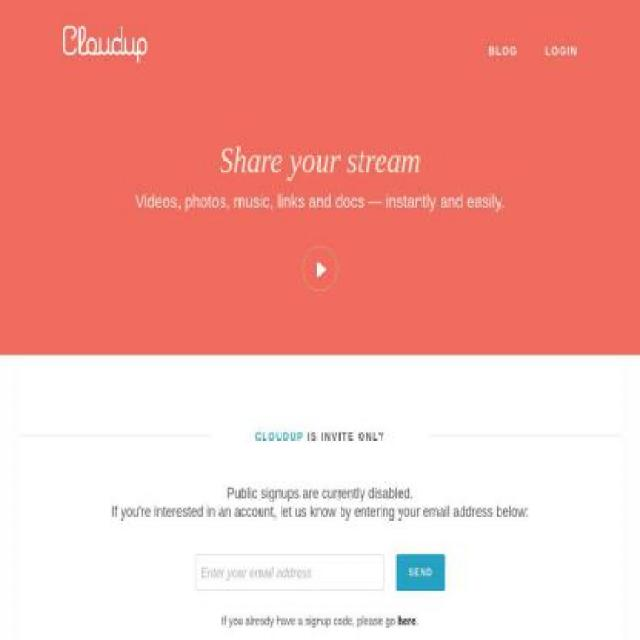button: (62, 25, 147, 64), (396, 554, 444, 591)
field: (194, 554, 383, 591)
